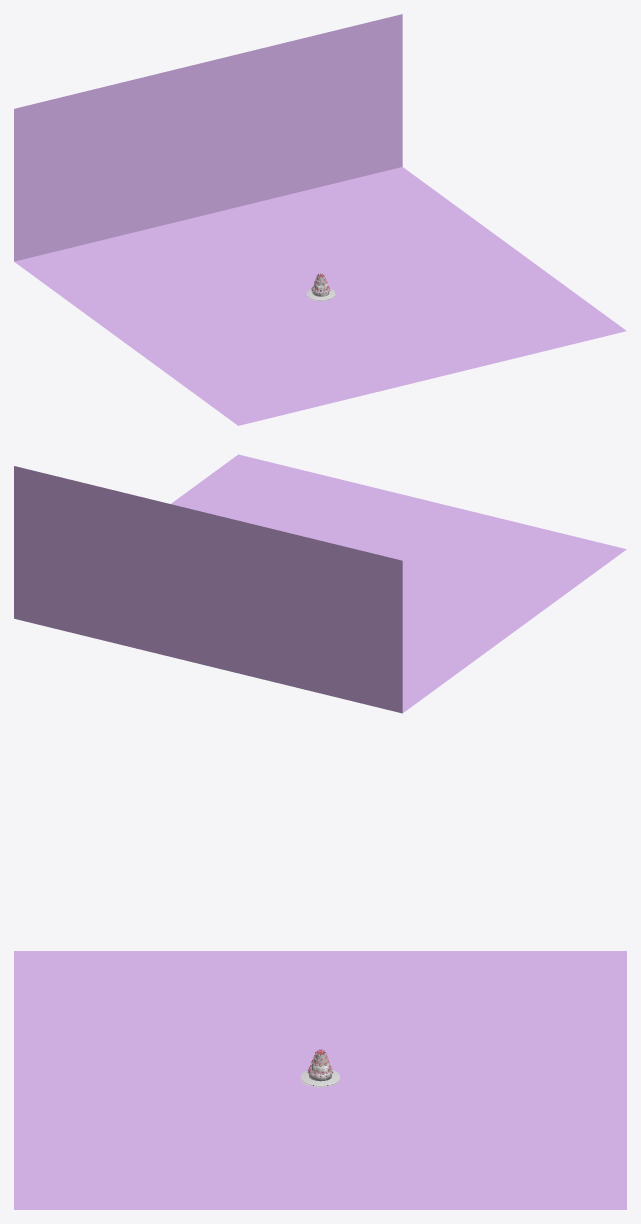
The model's file is cake.fbx.
3 renders of one model, top to bottom at view 1: azimuth 30°, elevation 25°; view 2: azimuth 150°, elevation 25°; view 3: azimuth 270°, elevation 25°, orthographic. The views are drawn at different scales.
Visible parts, largest first — view 1: Plane; view 2: Plane; view 3: Plane.
Boxes of the visible parts, x1,y1,x2,y2 form: Plane: (14, 14, 626, 425); Plane: (14, 454, 626, 713); Plane: (14, 951, 626, 1209).
Size of the model in its own units: 17020 by 6396 by 17020.
